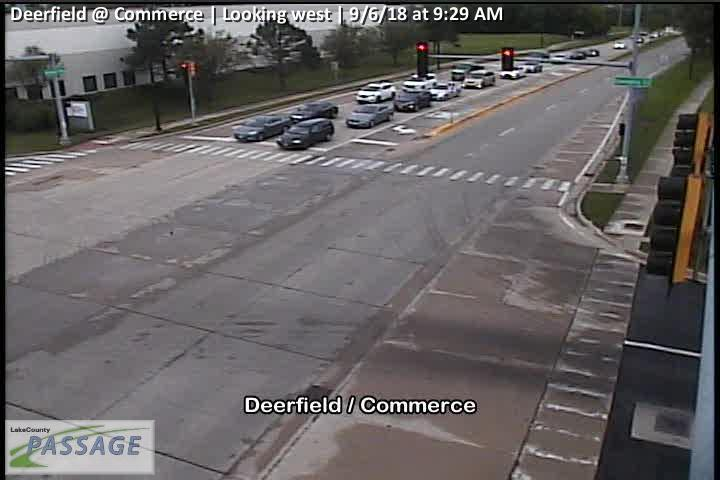Sedan: (274, 117, 333, 152), (233, 115, 290, 143), (344, 103, 393, 129), (290, 101, 338, 124), (354, 82, 394, 105), (394, 88, 431, 112), (448, 61, 483, 83), (428, 82, 461, 103), (461, 71, 496, 88), (401, 72, 436, 89), (498, 69, 525, 79), (518, 61, 542, 72), (565, 48, 584, 59), (584, 47, 600, 56), (613, 39, 625, 48)
